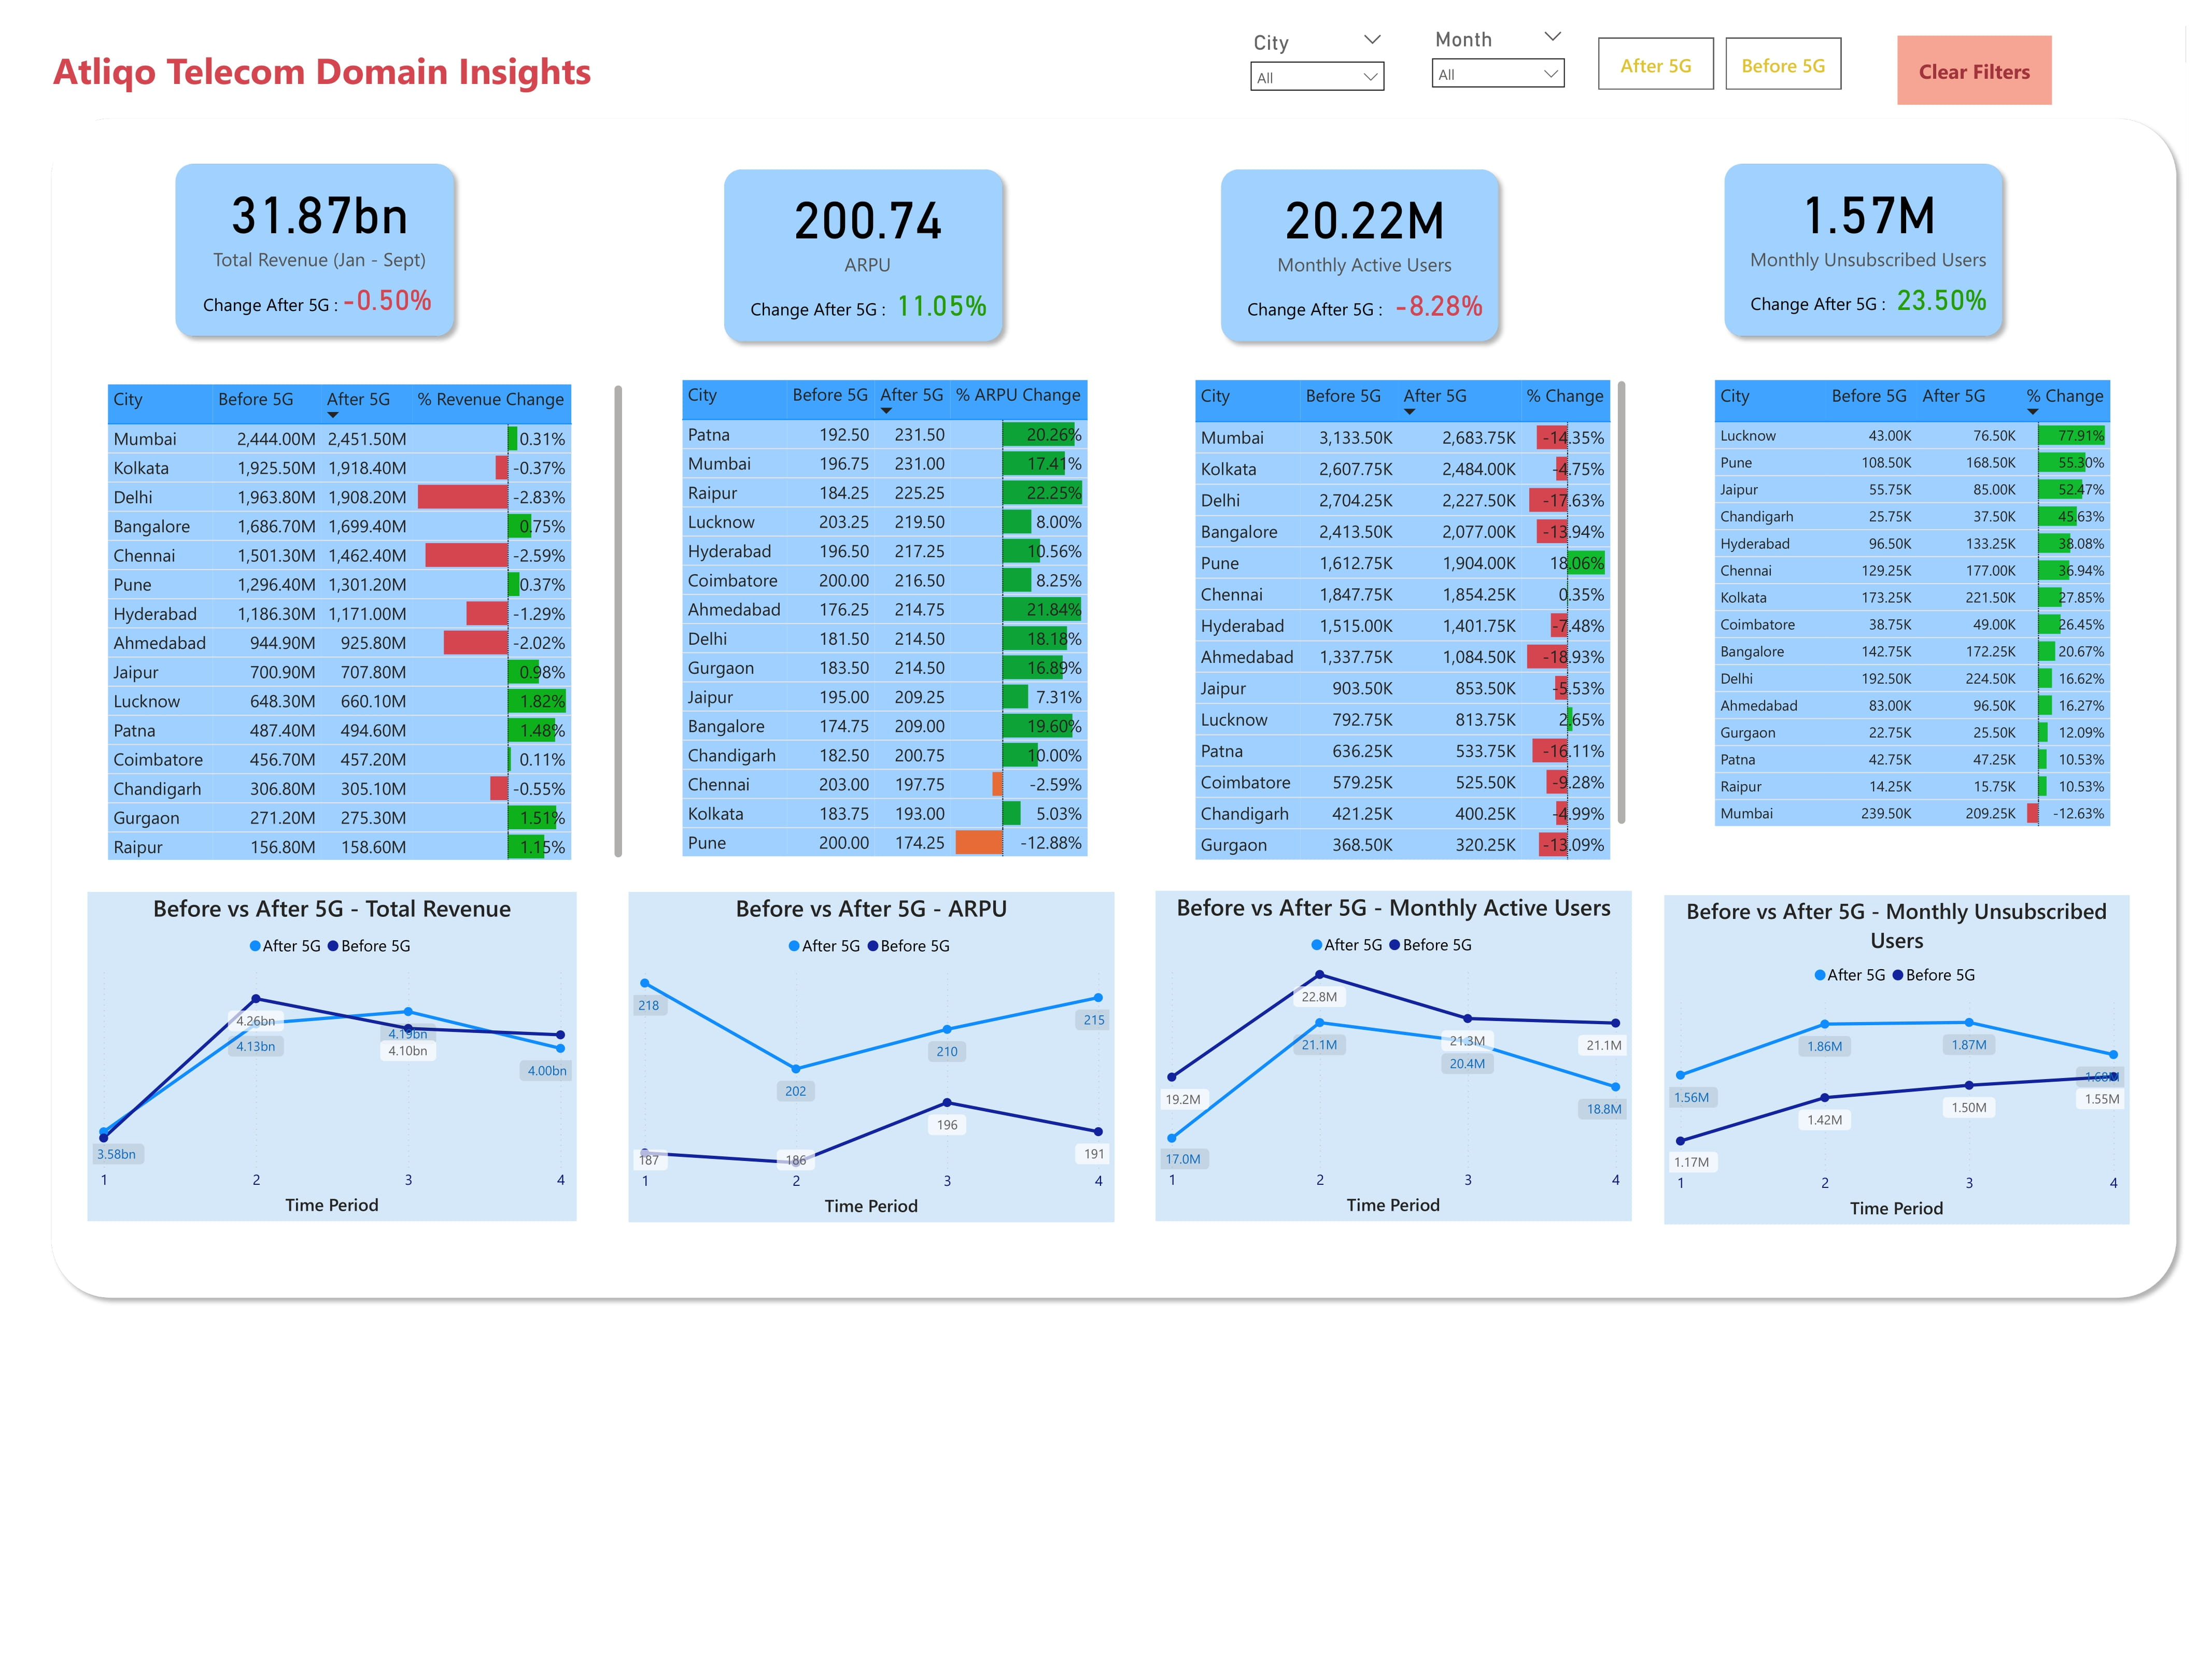

The page's visual inventory and layout, read from the dashboard file:
{"tool":"powerbi","page":{"name":"Revenue  Analysis","canvas":[2000,1500],"ordinal":1},"visuals":[{"type":"shape","box":[5,3.3,1958.3,73.3],"z":0},{"type":"shape","box":[15,76.7,1985,1110],"z":1000},{"type":"slicer","fields":{"Values":["dim_cities.city_name"]},"box":[1123.5,-1.2,144.3,74.3],"z":2000},{"type":"slicer","fields":{"Values":["dim_date.month_name"]},"box":[1292.1,-4,142.9,77.1],"z":3000},{"type":"advancedSlicerVisual","fields":{"Values":["dim_date.before/after_5g"]},"box":[1450.7,6,354.3,58.6],"z":5000},{"type":"shape","box":[130.4,119.5,274.9,176.6],"z":6000},{"type":"card","fields":{"Values":["Key Measures.% Revenue Change After 5G"]},"box":[283.4,219,102,67.2],"z":7000},{"type":"card","title":"Total Revenue","fields":{"Values":["Key Measures.Total Revenue"]},"box":[122.9,122,298.6,116.9],"z":8000},{"type":"shape","box":[152.8,227.7,146.8,58.5],"z":9000},{"type":"shape","box":[637.6,124.2,274.9,176.6],"z":10000},{"type":"card","fields":{"Values":["Key Measures.% ARPU Change After 5G"]},"box":[780.6,223.6,134.3,67.2],"z":11000},{"type":"card","title":"Total Revenue","fields":{"Values":["Key Measures.Average Revenue Per User (ARPU)"]},"box":[630.1,126.7,298.6,116.9],"z":12000},{"type":"shape","box":[660,232.4,146.8,58.5],"z":13000},{"type":"shape","box":[1097.5,124.2,274.9,176.6],"z":14000},{"type":"card","fields":{"Values":["Key Measures.% Monthly active Users Change After 5G"]},"box":[1240.5,223.7,134.3,67.2],"z":15000},{"type":"card","title":"Total Revenue","fields":{"Values":["Key Measures.Monthly Active Users"]},"box":[1090.1,126.7,298.6,116.9],"z":16000},{"type":"shape","box":[1119.9,232.4,146.8,58.5],"z":17000},{"type":"shape","box":[1564,119.2,274.9,176.6],"z":18000},{"type":"card","fields":{"Values":["Key Measures.% Monthly Unsubscribed Users change after 5G"]},"box":[1707,218.7,134.3,67.2],"z":19000},{"type":"card","title":"Total Revenue","fields":{"Values":["Key Measures.Monthly Unsubscribed Users"]},"box":[1556.6,121.7,298.6,116.9],"z":20000},{"type":"shape","box":[1586.4,227.5,146.8,58.5],"z":21000},{"type":"tableEx","fields":{"Values":["dim_cities.city_name","Key Measures.Revenue Before 5G","Key Measures.Revenue After 5G","Key Measures.% Revenue Change After 5G"]},"box":[70,326.7,488.3,450],"z":22000},{"type":"tableEx","fields":{"Values":["dim_cities.city_name","Key Measures.ARPU Before 5G","Key Measures.ARPU After 5G","Key Measures.% ARPU Change After 5G"]},"box":[601.7,323.3,425,453.3],"z":23000},{"type":"tableEx","fields":{"Values":["dim_cities.city_name","Key Measures.Monthly Active Users Before 5G","Key Measures.Monthly Active Users After 5G","Key Measures.% Monthly Active Users change after 5G"]},"box":[1076.7,323.3,410,453.3],"z":24000},{"type":"tableEx","fields":{"Values":["dim_cities.city_name","Key Measures.Monthly Unsubscribed Users Before 5G","Key Measures.Monthly Unsubscribed Users After 5G","Key Measures.% Monthly Unsubscribed Users change after 5G"]},"box":[1558.3,323.3,383.3,453.3],"z":25000},{"type":"lineChart","title":"Before vs After 5G - Total Revenue","fields":{"Y":["Key Measures.Total Revenue"],"Series":["dim_date.before/after_5g"],"Category":["dim_date.time_period"]},"box":[56.7,801.7,453.3,305],"z":26000},{"type":"lineChart","title":"Before vs After 5G - ARPU","fields":{"Series":["dim_date.before/after_5g"],"Category":["dim_date.time_period"],"Y":["Key Measures.Average Revenue Per User (ARPU)"]},"box":[558.3,801.7,450,306.7],"z":27000},{"type":"lineChart","title":"Before vs After 5G - Monthly Active Users","fields":{"Series":["dim_date.before/after_5g"],"Category":["dim_date.time_period"],"Y":["Key Measures.Monthly Active Users"]},"box":[1045.7,801.4,441.4,305.7],"z":28000},{"type":"lineChart","title":"Before vs After 5G - Monthly Unsubscribed Users","fields":{"Series":["dim_date.before/after_5g"],"Category":["dim_date.time_period"],"Y":["Key Measures.Monthly Unsubscribed Users"]},"box":[1516.7,805,431.7,305],"z":29000},{"type":"actionButton","box":[1732.9,8.6,142.9,64.3],"z":29001}]}

Visuals, with their boxes in screenshot pixels (x1, y1, x2, y2):
shape: [31,30,2147,109]
shape: [42,109,2186,1308]
slicer - dim_cities.city_name: [1239,26,1395,105]
slicer - dim_date.month_name: [1421,26,1576,105]
advancedSlicerVisual - dim_date.before/after_5g: [1593,33,1976,96]
shape: [167,155,463,346]
card - Key Measures.% Revenue Change After 5G: [332,262,442,335]
"Total Revenue" card: [159,158,481,284]
shape: [191,272,349,335]
shape: [714,160,1011,351]
card - Key Measures.% ARPU Change After 5G: [869,267,1014,340]
"Total Revenue" card: [707,163,1029,289]
shape: [739,277,897,340]
shape: [1211,160,1508,351]
card - Key Measures.% Monthly active Users Change After 5G: [1366,267,1511,340]
"Total Revenue" card: [1203,163,1526,289]
shape: [1235,277,1394,340]
shape: [1715,154,2012,345]
card - Key Measures.% Monthly Unsubscribed Users change after 5G: [1870,262,2014,335]
"Total Revenue" card: [1707,158,2030,284]
shape: [1739,272,1898,335]
tableEx - dim_cities.city_name x Key Measures.Revenue Before 5G: [102,379,629,865]
tableEx - dim_cities.city_name x Key Measures.ARPU Before 5G: [676,375,1135,865]
tableEx - dim_cities.city_name x Key Measures.Monthly Active Users Before 5G: [1189,375,1632,865]
tableEx - dim_cities.city_name x Key Measures.Monthly Unsubscribed Users Before 5G: [1709,375,2123,865]
"Before vs After 5G - Total Revenue" lineChart: [87,892,577,1221]
"Before vs After 5G - ARPU" lineChart: [629,892,1115,1223]
"Before vs After 5G - Monthly Active Users" lineChart: [1156,891,1632,1222]
"Before vs After 5G - Monthly Unsubscribed Users" lineChart: [1664,896,2130,1225]
actionButton: [1897,35,2052,105]
